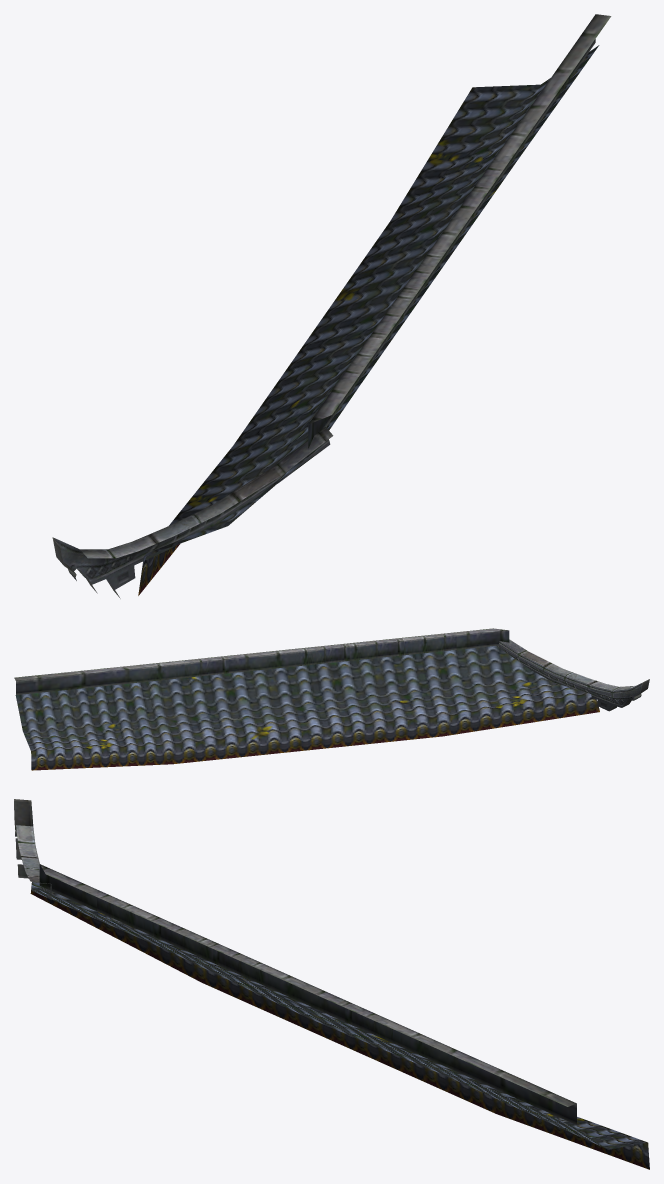
The model's file is S2_Build_XSC059_L3.FBX.
3 renders of one model, top to bottom at view 1: azimuth 30°, elevation 25°; view 2: azimuth 150°, elevation 25°; view 3: azimuth 270°, elevation 25°, orthographic. The views are drawn at different scales.
Visible parts, largest first — view 1: S2_Build_XSC059_L3; view 2: S2_Build_XSC059_L3; view 3: S2_Build_XSC059_L3.
Boxes of the visible parts, box(x1,y1,x2,y2) form: S2_Build_XSC059_L3: box(52, 14, 611, 598); S2_Build_XSC059_L3: box(14, 628, 649, 770); S2_Build_XSC059_L3: box(14, 799, 649, 1169).
Bounding box in the file's own units: 15219 × 2267 × 11970.
